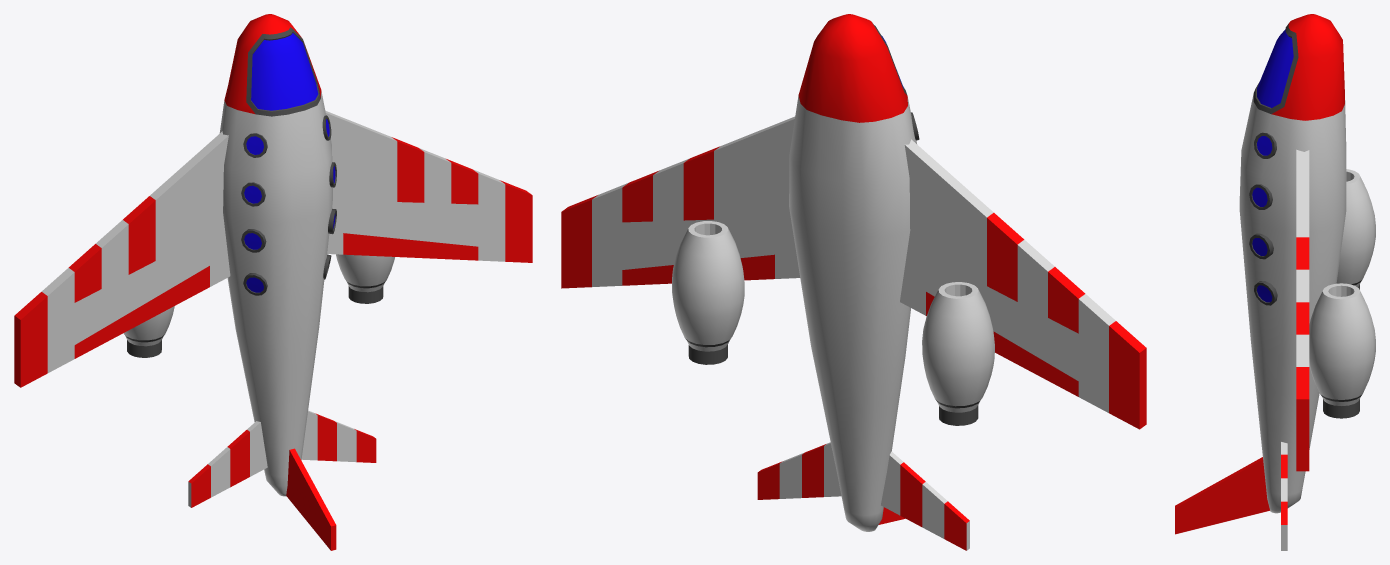
Rendered from Airliner.fbx.
The picture shows the model from 3 angles, left to right: view 1: azimuth 30°, elevation 25°; view 2: azimuth 150°, elevation 25°; view 3: azimuth 270°, elevation 25°; orthographic projection. The views are drawn at different scales.
Visible parts, largest first — view 1: Air Plane; view 2: Air Plane; view 3: Air Plane.
Part boxes in pixels (x1=…): Air Plane: x1=14, y1=14, x2=532, y2=550; Air Plane: x1=561, y1=14, x2=1146, y2=550; Air Plane: x1=1175, y1=14, x2=1375, y2=550.
Size of the model in its own units: 105 by 95.21 by 33.5.
